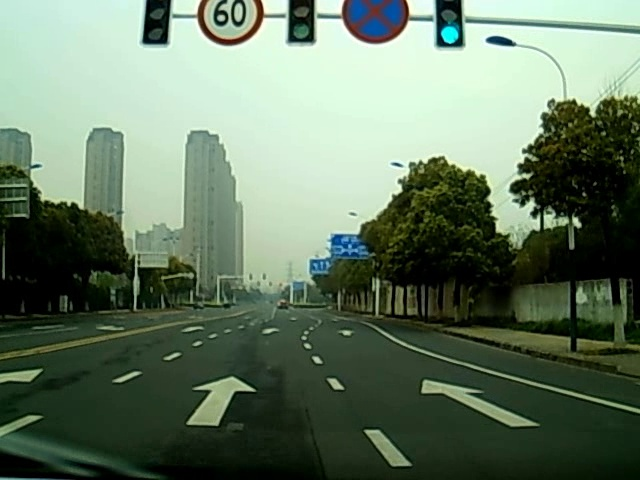Traffic_Light_go: (436, 1, 465, 48), (287, 2, 311, 42)
